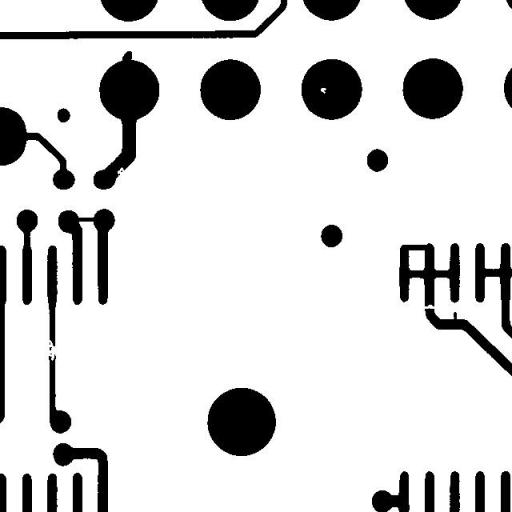mousebite: (110, 159, 132, 182)
open: (37, 332, 63, 368), (414, 297, 444, 316)
pin-hole: (312, 80, 334, 101)
short: (393, 237, 438, 258), (62, 210, 104, 228)
spur: (114, 44, 140, 70), (446, 304, 464, 328)
